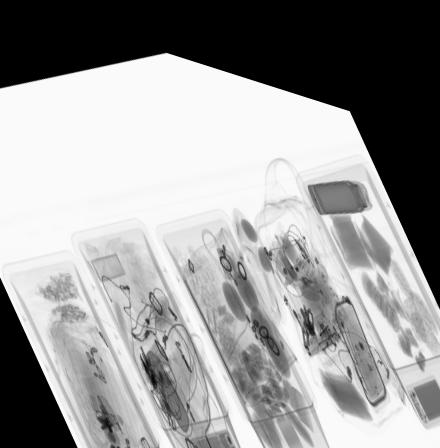Powerbank: (406, 351, 440, 397)
